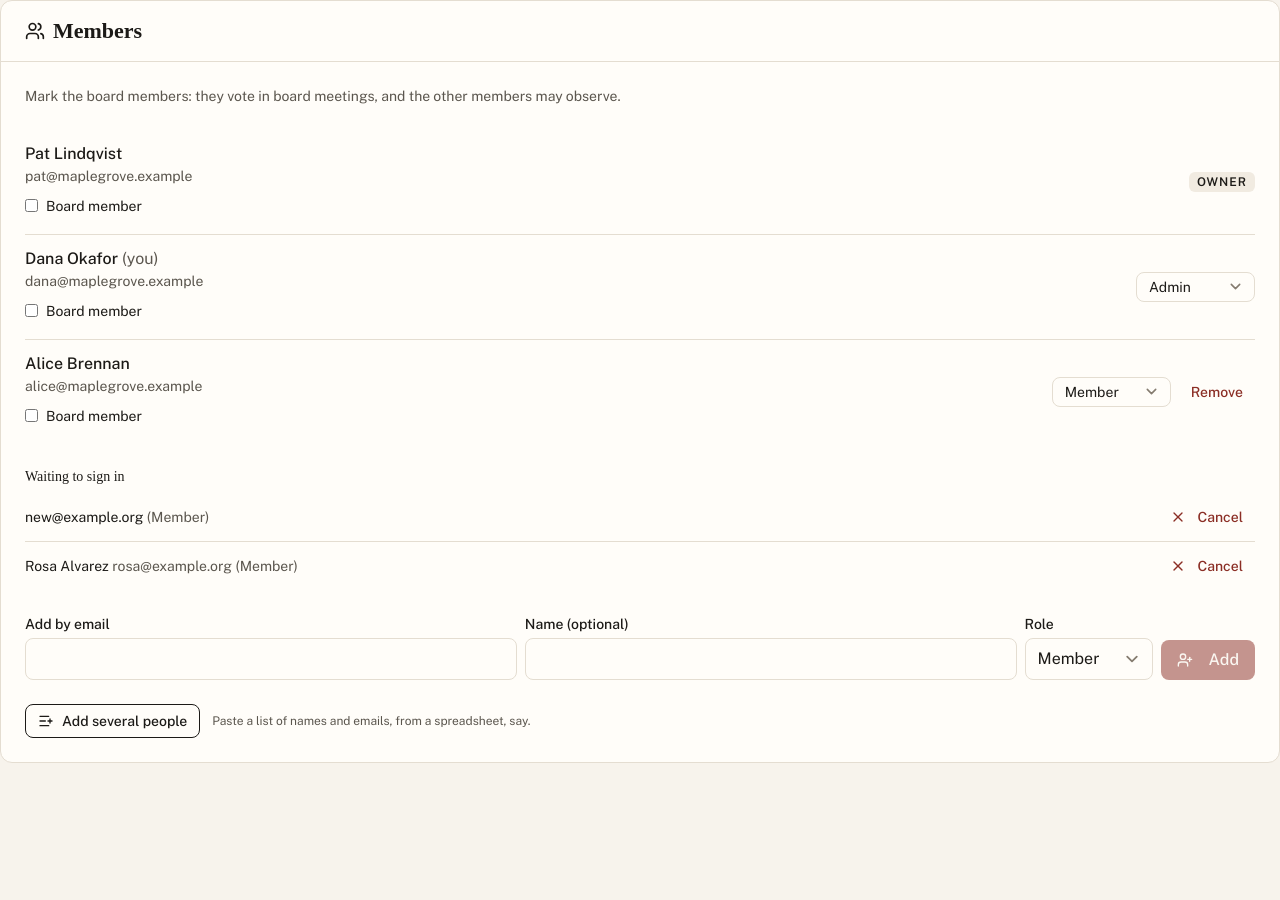
Test: MembersCard › lets an admin change their own role, but not remove themselves
Select "Member" in the dropdown named "Role of Dana Okafor". click: (1196,286)
box: left=1136, top=272, right=1255, bottom=302
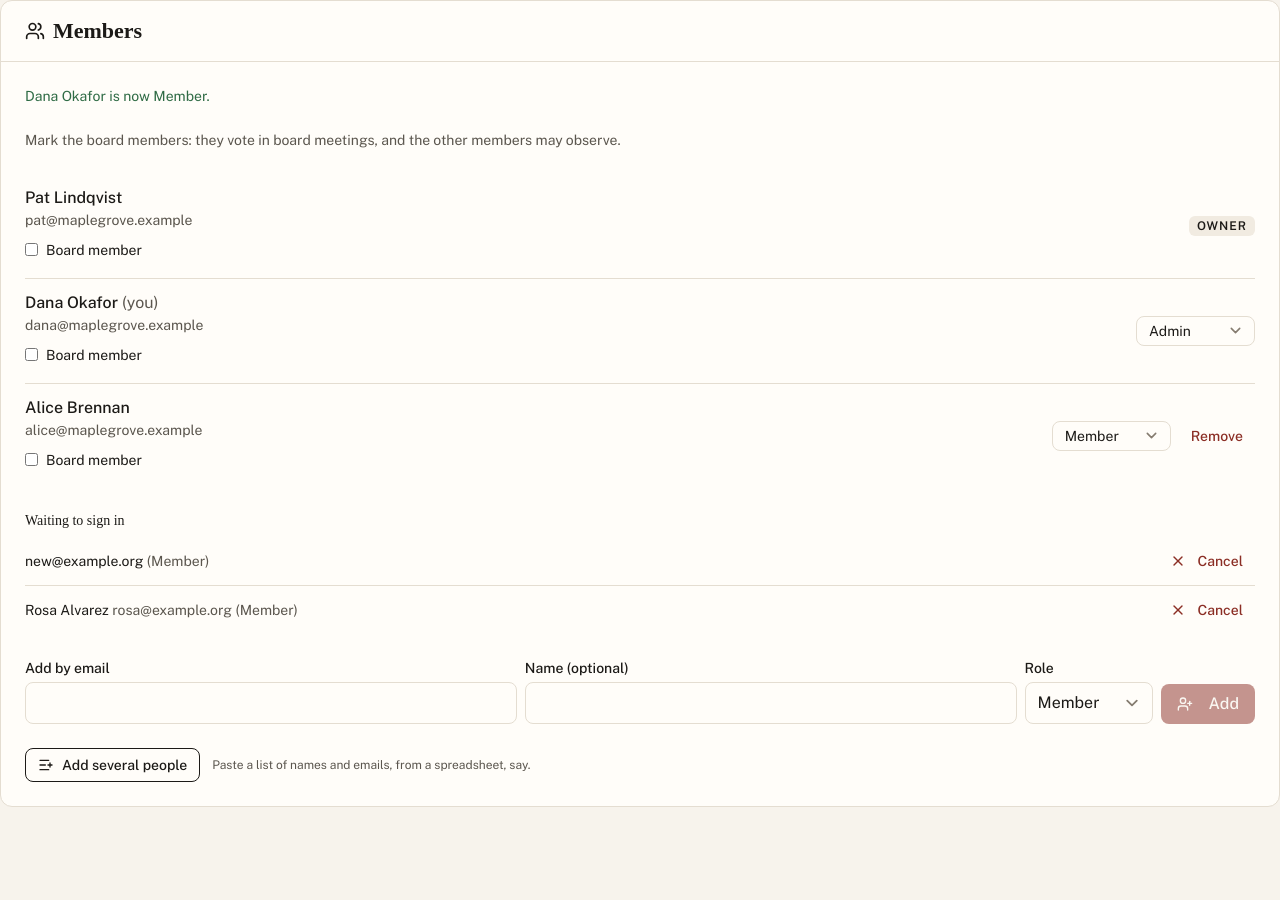
Now the text "Dana Okafor is now Member." is shown, box left=25, top=88, right=210, bottom=104
